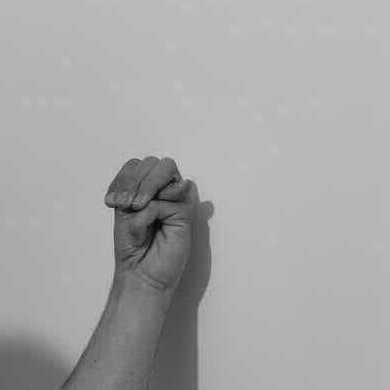M: (103, 155, 197, 297)
